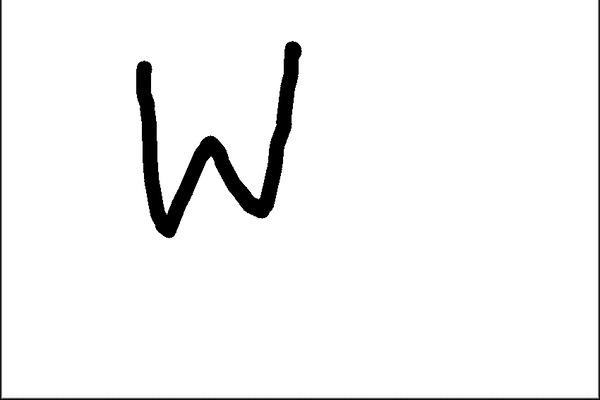w: (110, 30, 311, 252)
